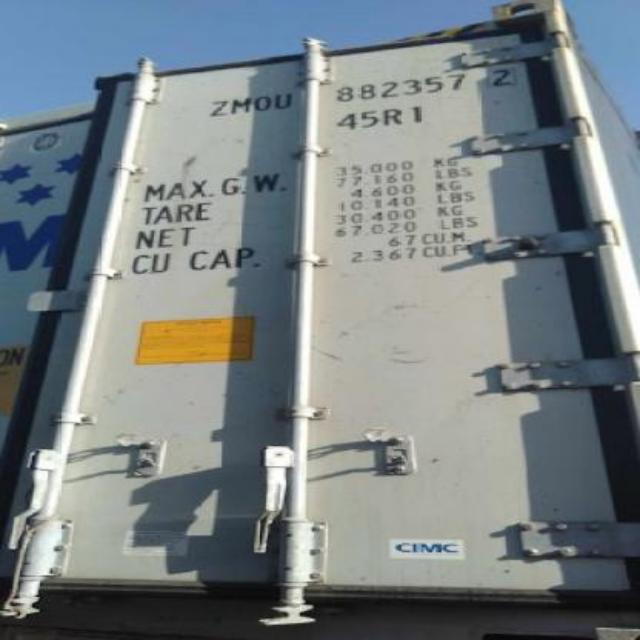2: (376, 80, 402, 98), (490, 69, 514, 85)
3: (401, 76, 422, 96)
5: (422, 75, 448, 95)
7: (444, 72, 468, 92)
8: (357, 84, 378, 100), (336, 86, 356, 102)
M: (232, 98, 252, 112)
O: (252, 96, 272, 110)
U: (272, 93, 292, 109)
Z: (206, 100, 228, 116)
